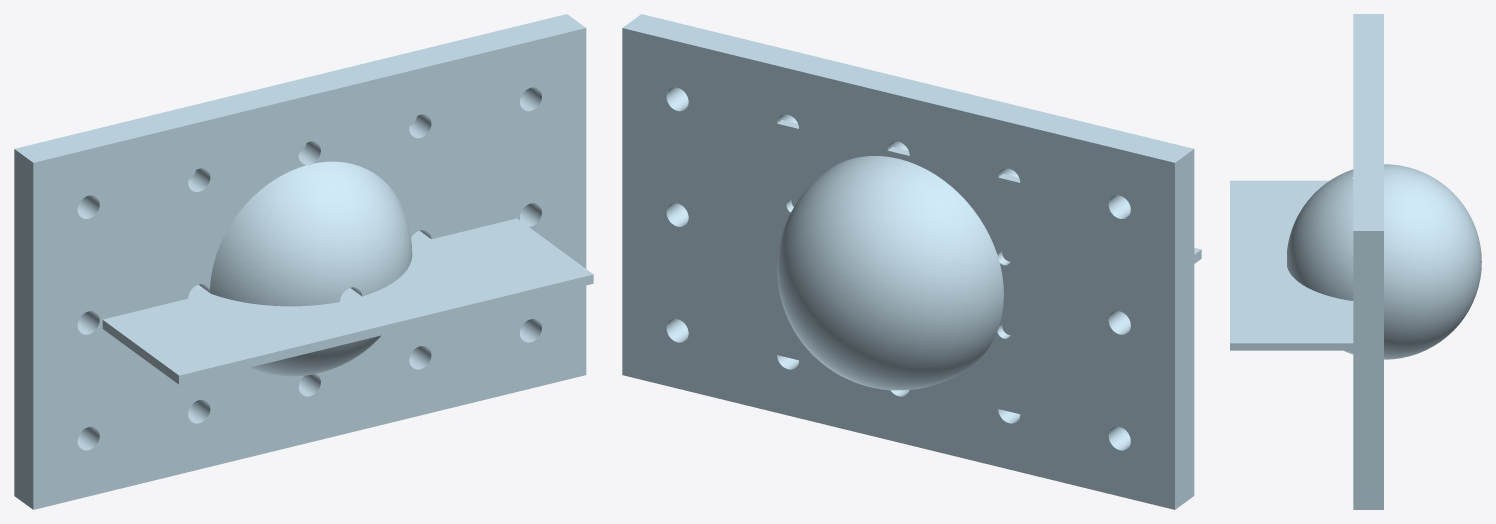
3 views of the same model, side by side, from view 1: azimuth 30°, elevation 25°; view 2: azimuth 150°, elevation 25°; view 3: azimuth 270°, elevation 25° (orthographic). The views are drawn at different scales.
Parts seen in each view (by area): view 1: Part 1; view 2: Part 1; view 3: Part 1.
Part boxes in pixels (box(x1,y1,x2,y2)): Part 1: box(14, 14, 593, 509); Part 1: box(622, 14, 1201, 509); Part 1: box(1230, 14, 1481, 509).
Size of the model in its own units: 0.2 by 0.12 by 0.0981.
